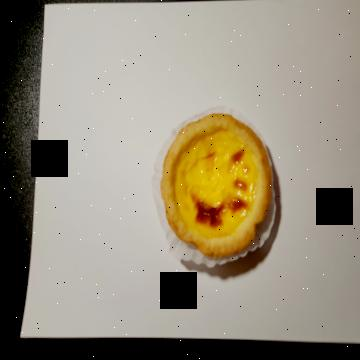EggTart: (160, 113, 276, 258)
